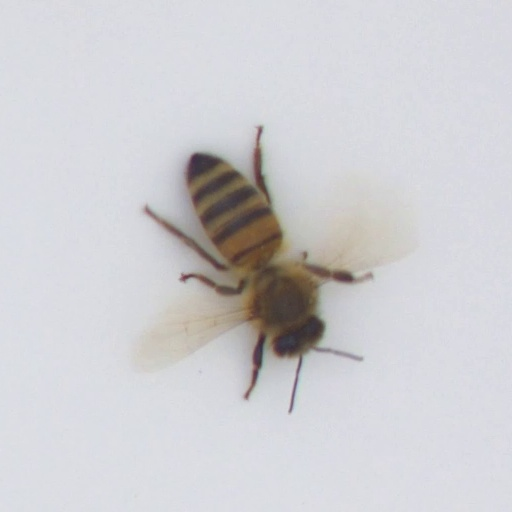Bee: (177, 145, 339, 362)
Thorax: (247, 265, 319, 337)
